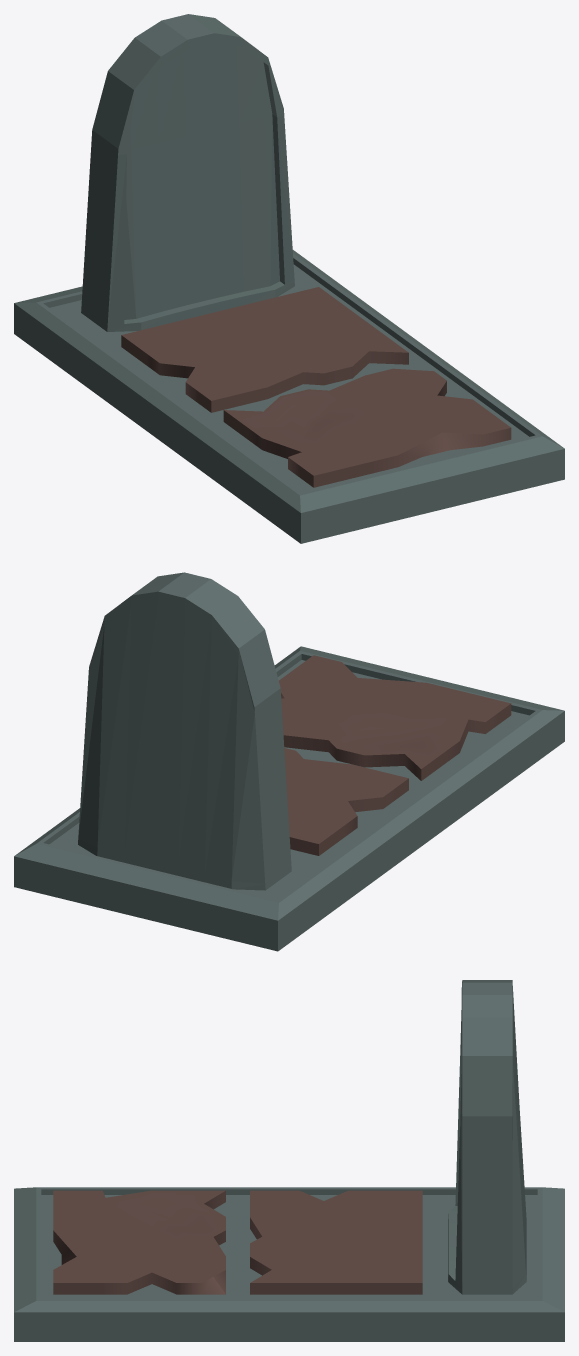
3 renders of one model, top to bottom at view 1: azimuth 30°, elevation 25°; view 2: azimuth 150°, elevation 25°; view 3: azimuth 270°, elevation 25°, orthographic. The views are drawn at different scales.
Visible parts, largest first — view 1: pCube1, pCube2, pCube3; view 2: pCube1, pCube3, pCube2; view 3: pCube1, pCube2, pCube3.
Part boxes in pixels (<box>): pCube1: <box>14,14,564,543</box>; pCube2: <box>121,287,408,412</box>; pCube3: <box>223,368,511,487</box>; pCube1: <box>14,572,564,951</box>; pCube3: <box>279,655,511,780</box>; pCube2: <box>284,748,408,855</box>; pCube1: <box>14,980,564,1341</box>; pCube2: <box>250,1190,422,1294</box>; pCube3: <box>53,1190,225,1294</box>.
Size of the model in its own units: 1.42 by 1.56 by 2.66.
